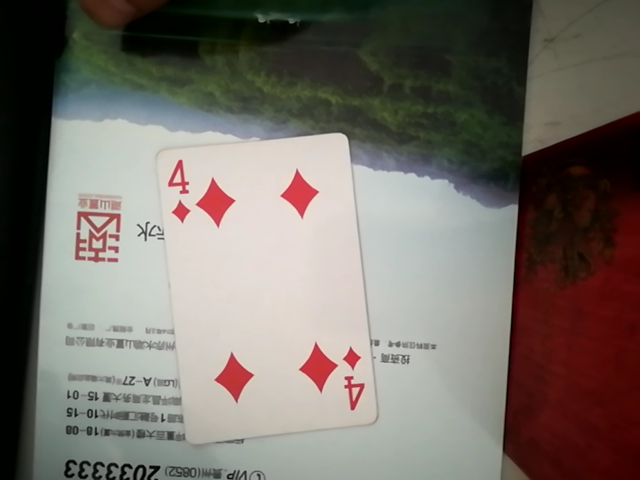fk 4: (147, 124, 378, 458)
